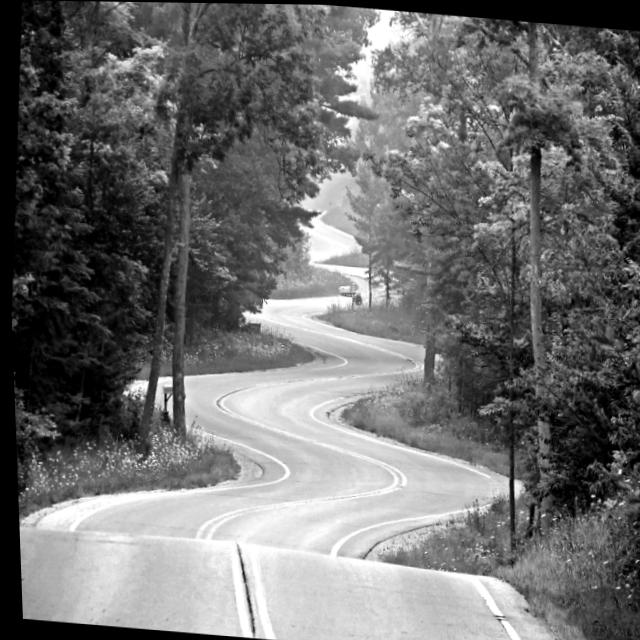cleat: (98, 218, 638, 640)
